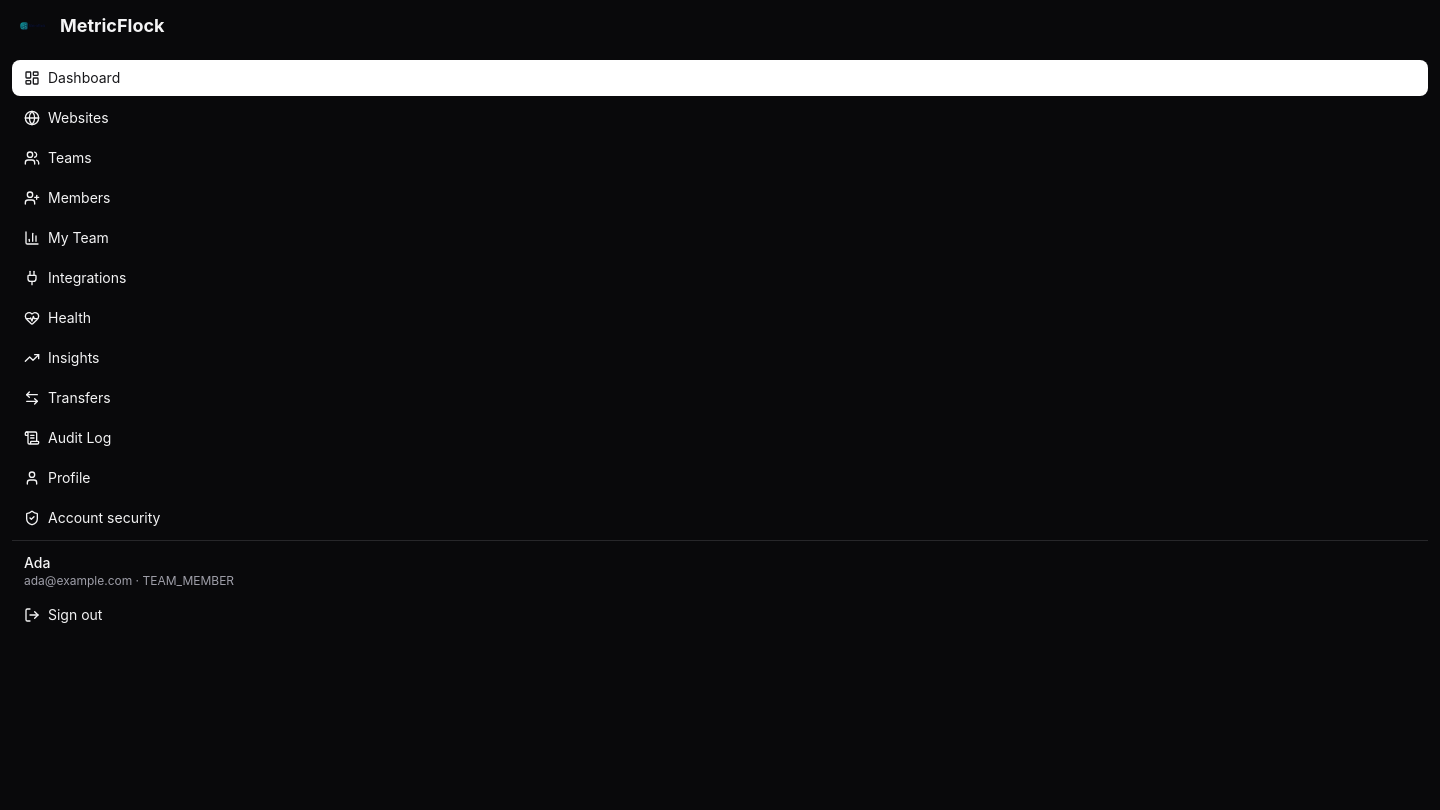
Test: Sidebar sign-out (A-FE-20) › stays in the app with an error when the logout request returns 500
Click the button "Sign out" at x=75, y=614, box [12,597,1428,633]
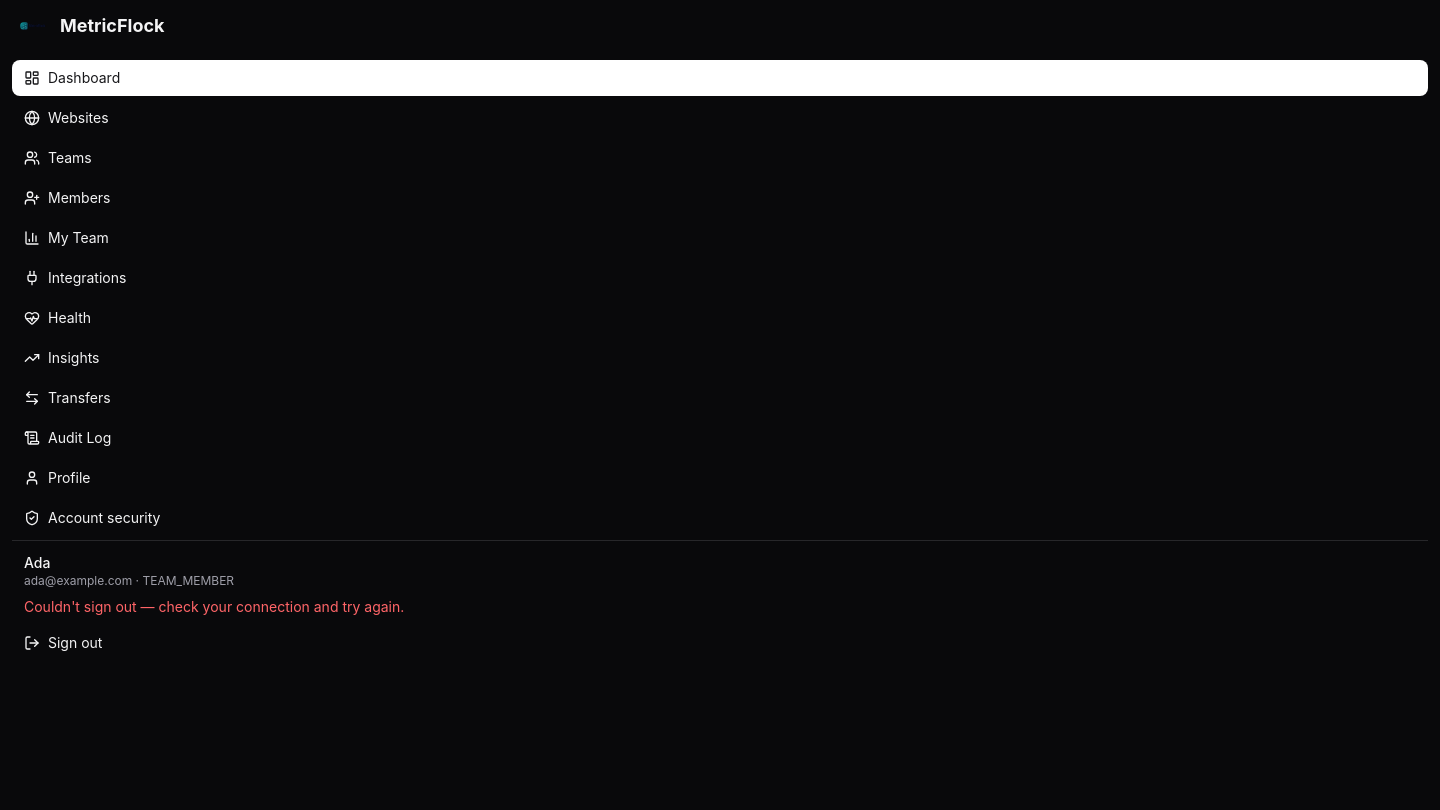
Expected: the text "ada@example.com · TEAM_MEMBER" is shown, [24,573,234,588]
Result: the message shows "Couldn't sign out" at [24,598,404,615]
